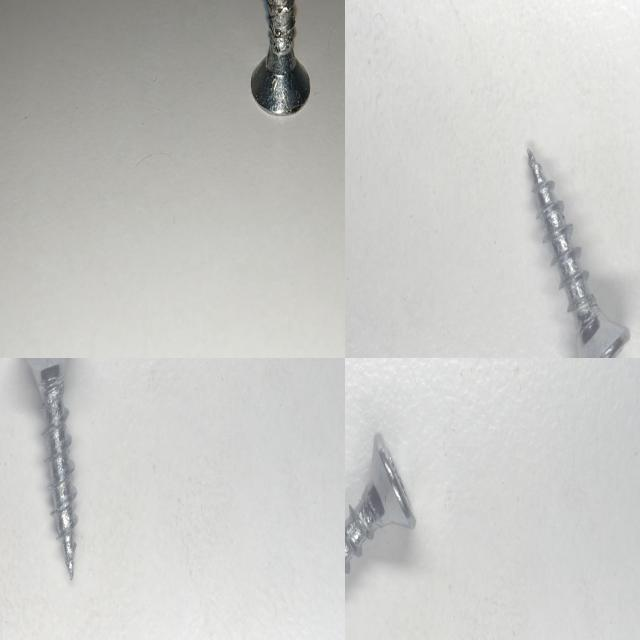Screw: (528, 148, 630, 358), (24, 358, 77, 577), (345, 432, 416, 572), (252, 0, 311, 114)
